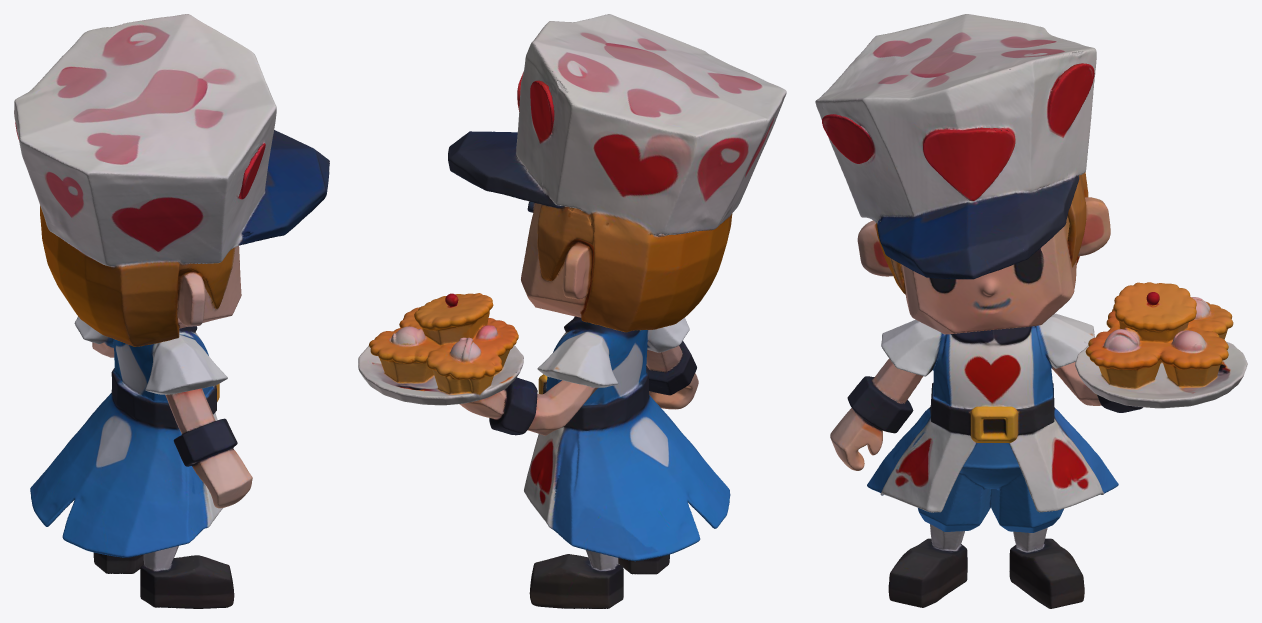
Rendered from knave_of_hearts.glb.
The picture shows the model from 3 angles, left to right: view 1: azimuth 30°, elevation 25°; view 2: azimuth 150°, elevation 25°; view 3: azimuth 270°, elevation 25°; orthographic projection. The views are drawn at different scales.
Parts seen in each view (by area): view 1: tripo_node_2586dd0a-e579-451a-a461-b4f391ec975c; view 2: tripo_node_2586dd0a-e579-451a-a461-b4f391ec975c; view 3: tripo_node_2586dd0a-e579-451a-a461-b4f391ec975c.
Part boxes in pixels (x1,y1,x2,y2): tripo_node_2586dd0a-e579-451a-a461-b4f391ec975c: (14, 14, 329, 608); tripo_node_2586dd0a-e579-451a-a461-b4f391ec975c: (358, 14, 786, 608); tripo_node_2586dd0a-e579-451a-a461-b4f391ec975c: (815, 14, 1247, 608).
Bounding box in the file's own units: 0.61 × 1 × 0.7068.
1 material, 1 textured.
